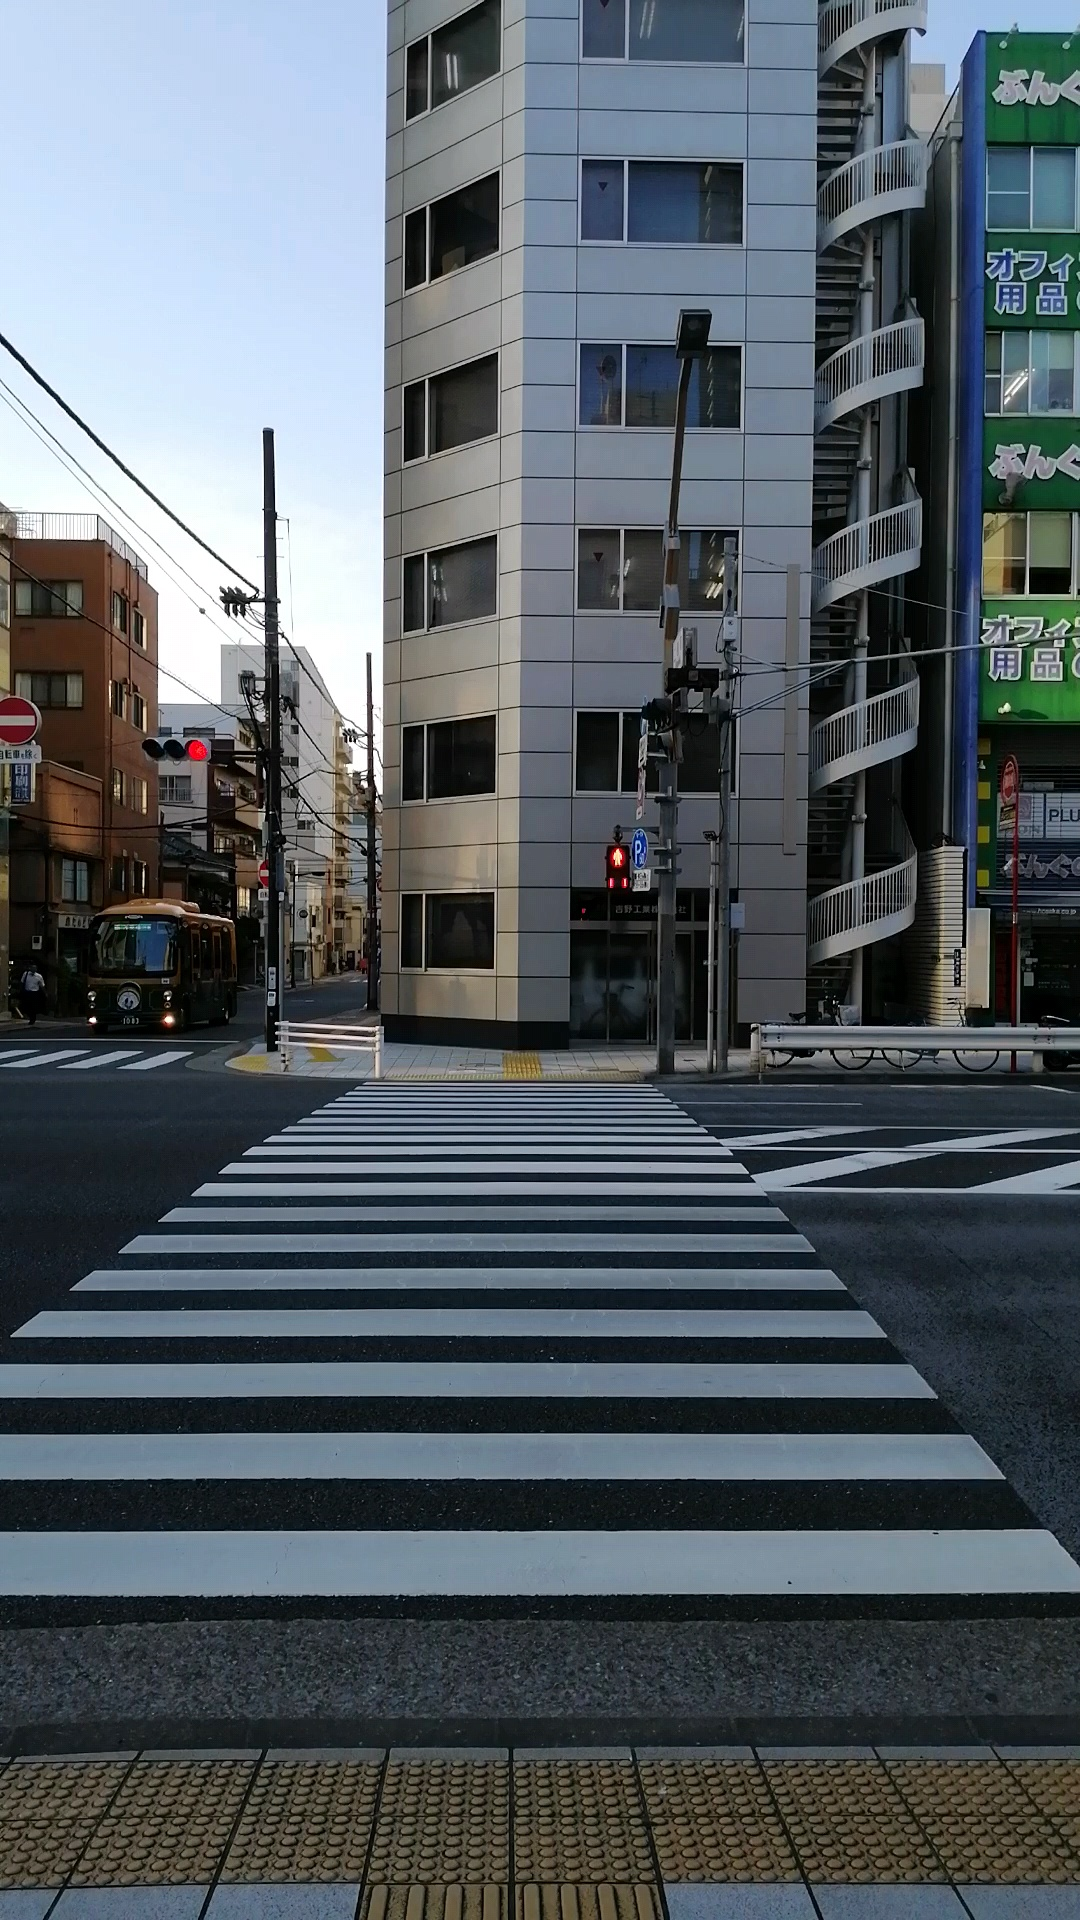red: (601, 843, 633, 898)
